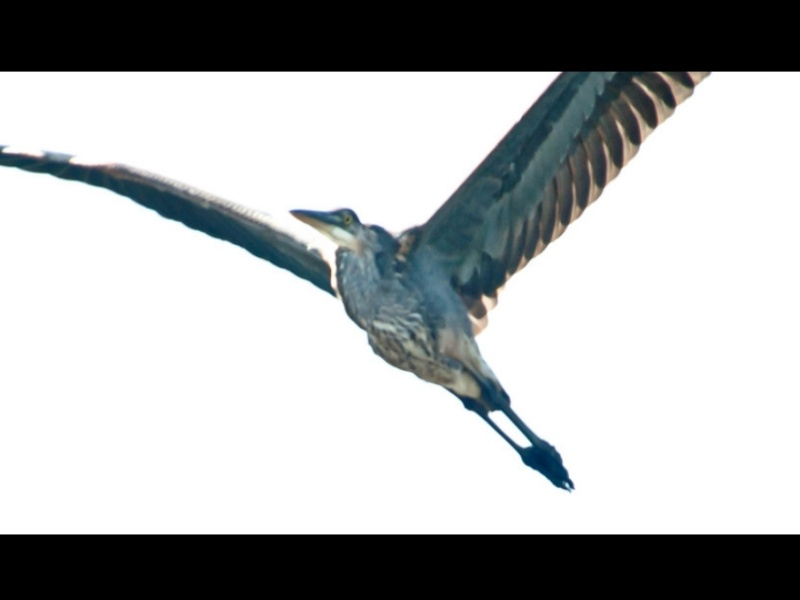heron: (10, 86, 713, 493)
